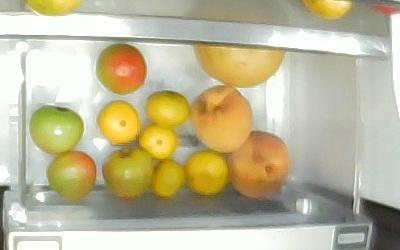peach: (224, 129, 290, 198), (187, 83, 252, 152)
pear: (192, 49, 286, 87)
tangerine: (183, 149, 229, 196), (95, 98, 141, 144), (143, 89, 190, 127), (148, 158, 186, 198), (137, 122, 176, 160)
tomato: (101, 145, 154, 199), (28, 103, 84, 154), (94, 42, 147, 95), (45, 150, 96, 199)
